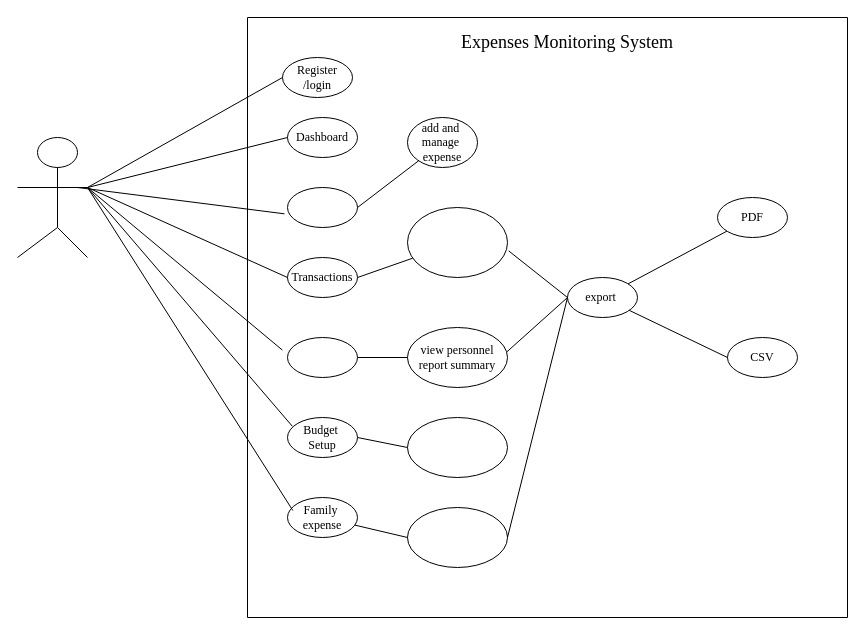
Image size: 866x636. Some labels were removed from this diagram. Each missing label, with the centre of its shape:
Add expense: the point at 322,207
create and manage budget: the point at 457,447
My reports: the point at 322,357
view and manage all transactions: the point at 457,242
view Family budget and shared report: the point at 457,537
